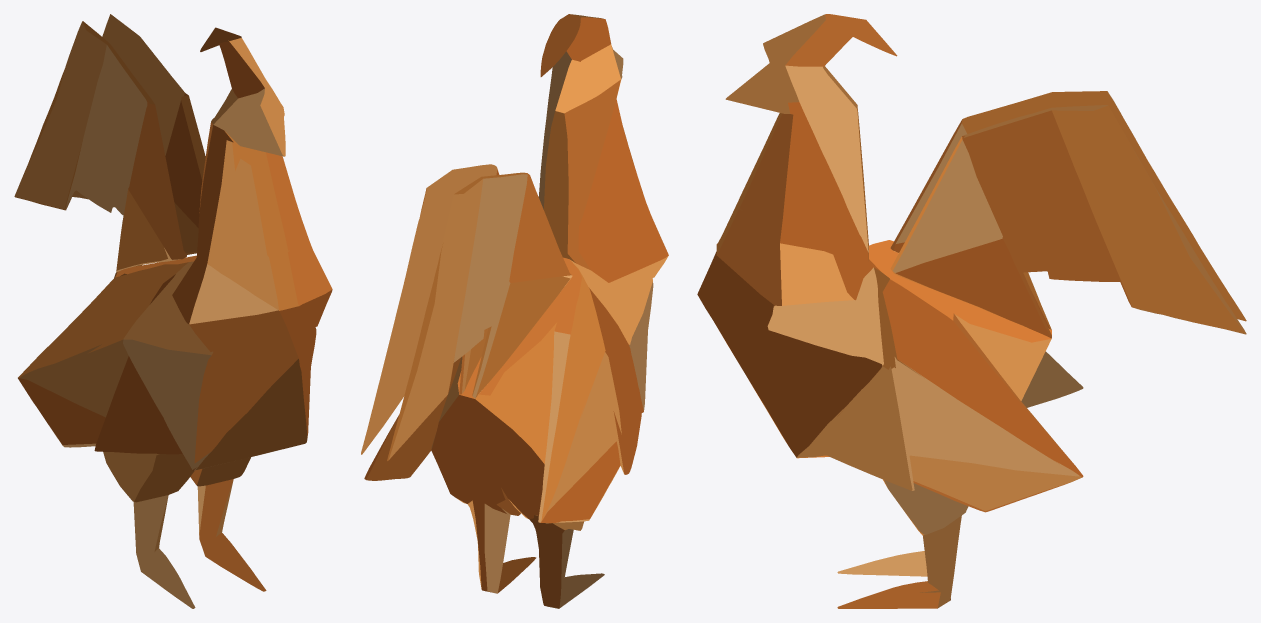
File: ayam.glb
The picture shows the model from 3 angles, left to right: view 1: azimuth 30°, elevation 25°; view 2: azimuth 150°, elevation 25°; view 3: azimuth 270°, elevation 25°; orthographic projection. The views are drawn at different scales.
Visible parts, largest first — view 1: ayam; view 2: ayam; view 3: ayam.
Part boxes in pixels (<box>): ayam: <box>14,14,332,608</box>; ayam: <box>361,14,668,608</box>; ayam: <box>697,14,1246,608</box>.
Size of the model in its own units: 0.6931 by 1.9 by 1.65.
